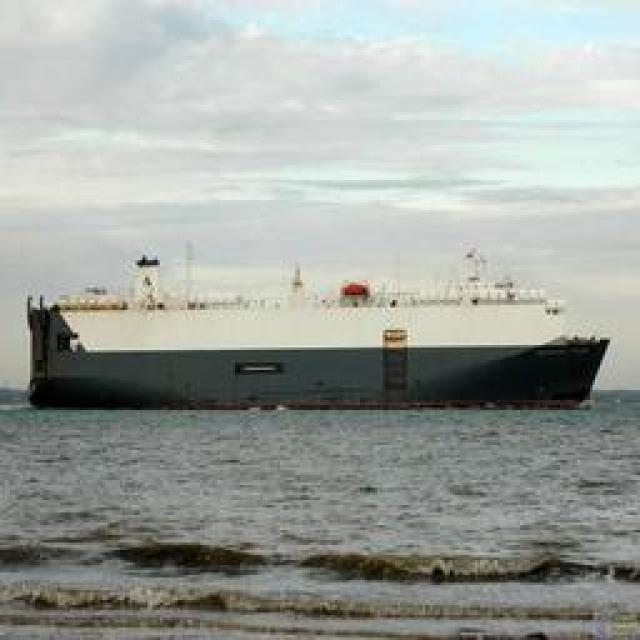CIV_Ship: (26, 275, 614, 415)
